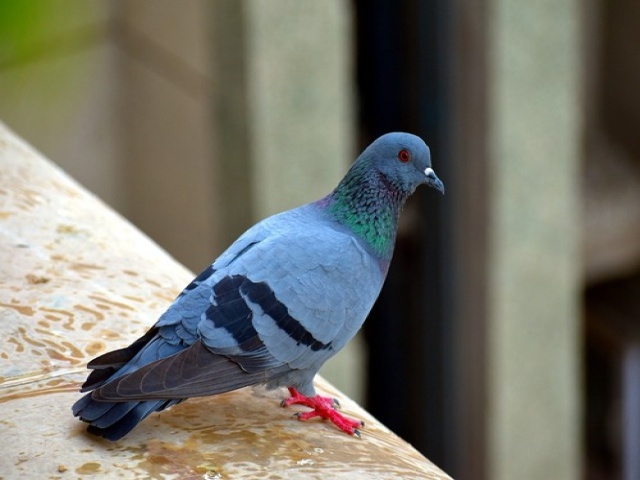Pigeon: (67, 121, 452, 448)
